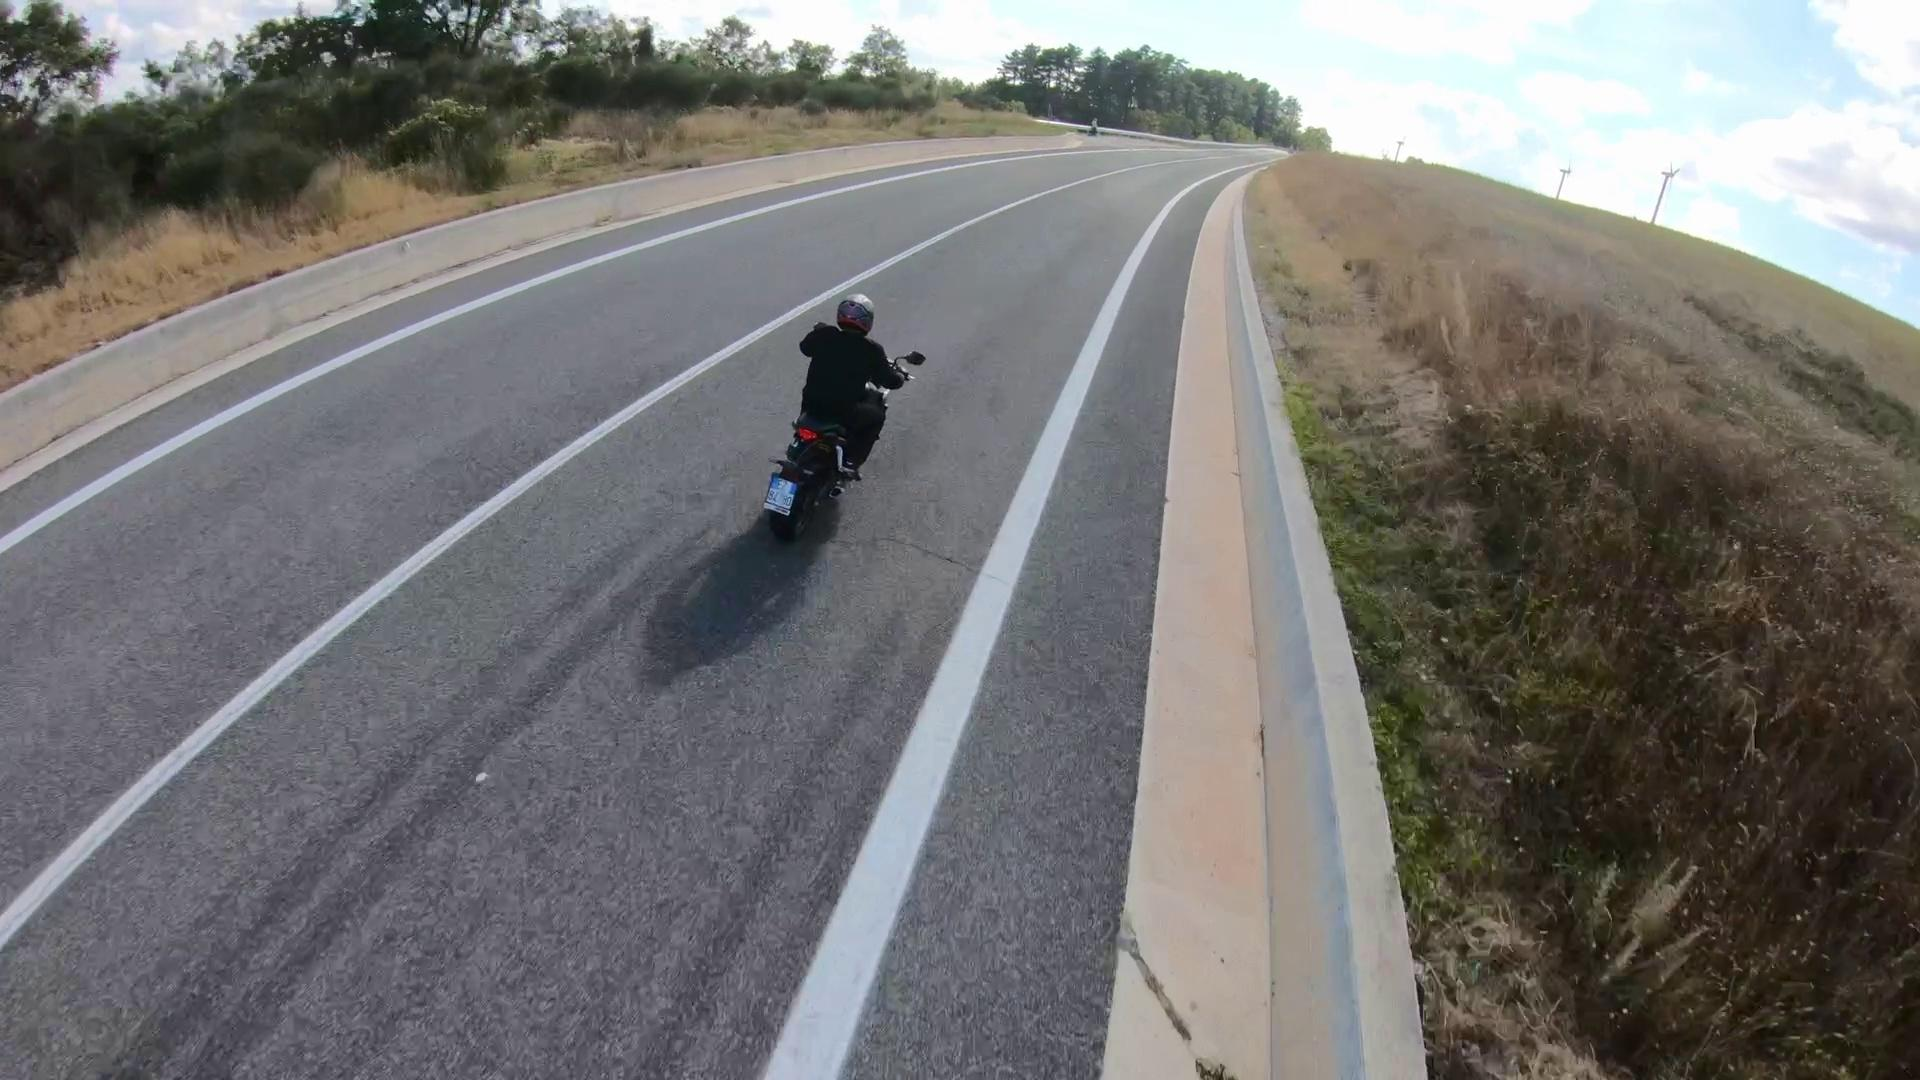cow: (767, 340, 923, 545)
horse: (787, 282, 924, 480)
